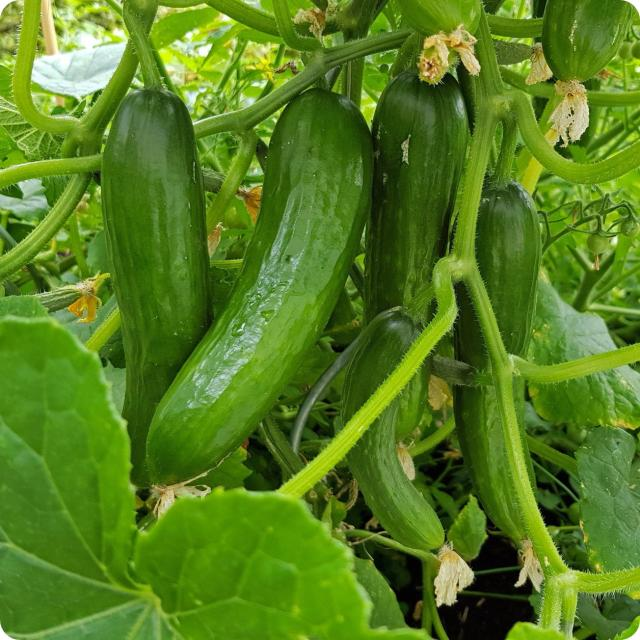Pickle: (146, 89, 372, 484), (101, 89, 212, 486), (365, 71, 469, 321), (476, 124, 541, 356), (346, 398, 444, 550), (455, 385, 525, 544), (341, 308, 421, 422), (455, 285, 489, 371)
